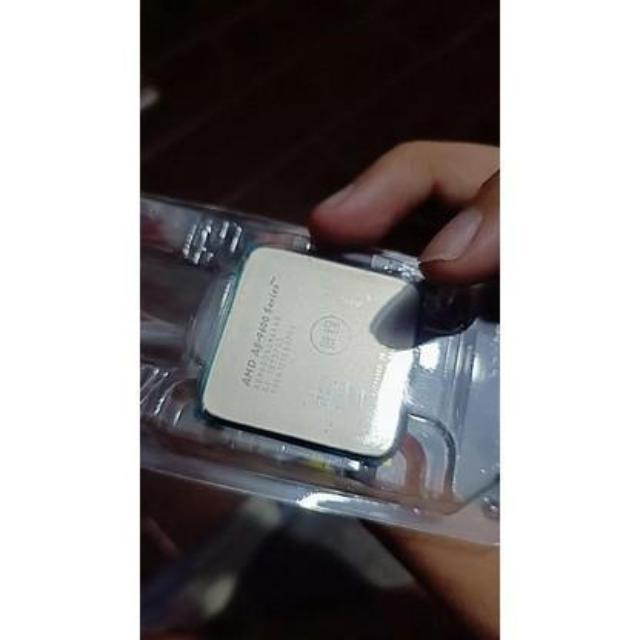CPU: (202, 242, 418, 466)
